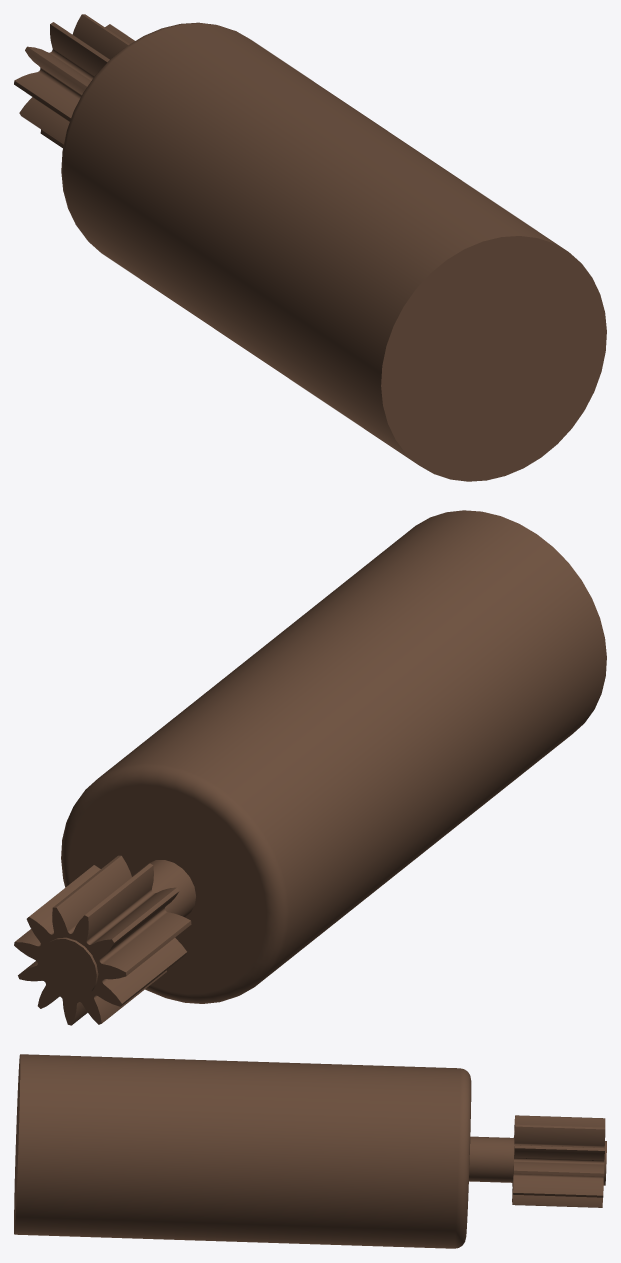
The model's file is Gearing.gltf.
3 views of the same model, one above another, from view 1: azimuth 30°, elevation 25°; view 2: azimuth 150°, elevation 25°; view 3: azimuth 270°, elevation 25° (orthographic). The views are drawn at different scales.
Visible parts, largest first — view 1: Solid1; view 2: Solid1; view 3: Solid1.
Boxes of the visible parts, left/top/right/bottom form: Solid1: left=14, top=14, right=606, bottom=481; Solid1: left=14, top=510, right=606, bottom=1025; Solid1: left=14, top=1054, right=606, bottom=1248.
Bounding box in the file's own units: 0.008 × 0.00866 × 0.0263.
